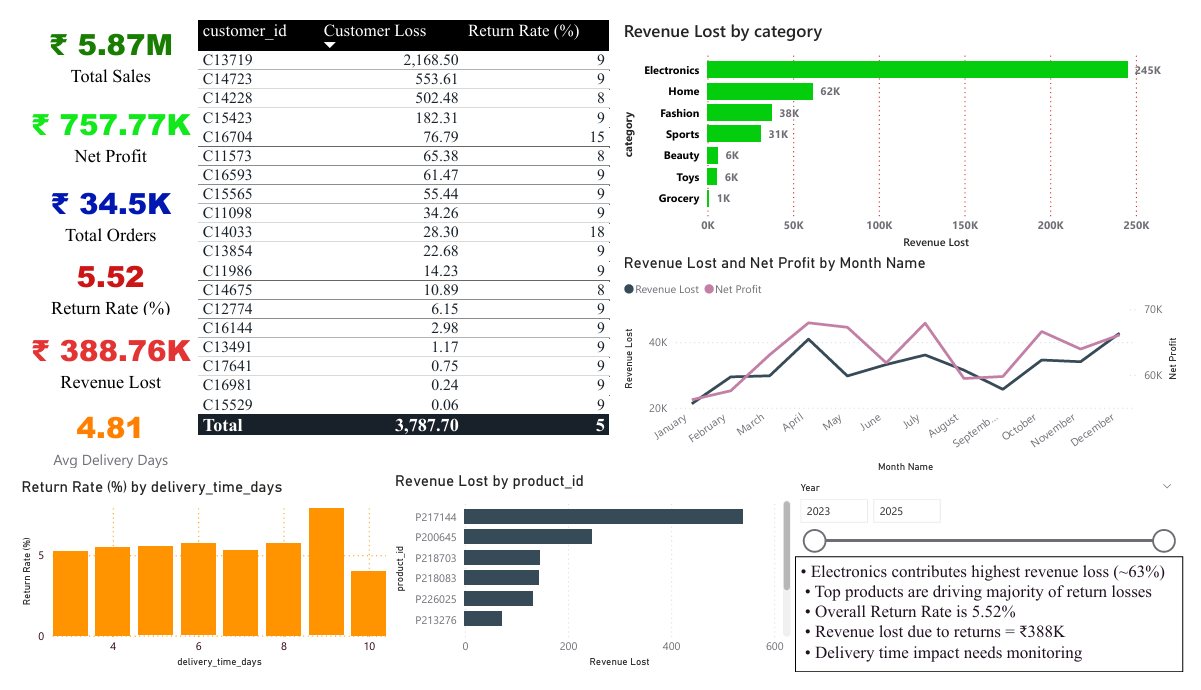

Layout of this report page (visuals, bound fields, positions):
{"tool":"powerbi","page":{"name":"E-Commerce Profit & Return Analysis Dashboard","canvas":[1280,720],"ordinal":0},"visuals":[{"type":"card","fields":{"Values":["ecommerce_sales_34500.Net Profit"]},"box":[0,85.7,205.7,88.6],"z":0},{"type":"card","fields":{"Values":["ecommerce_sales_34500.Total Sales"]},"box":[0,0,205.7,82.9],"z":1000},{"type":"card","fields":{"Values":["ecommerce_sales_34500.Total Orders"]},"box":[0,175.7,205.7,80],"z":2000},{"type":"card","fields":{"Values":["ecommerce_sales_34500.Return Rate (%)"]},"box":[0,258.6,205.7,74.3],"z":3000},{"type":"card","fields":{"Values":["ecommerce_sales_34500.Revenue Lost"]},"box":[0,334.3,205.7,85.7],"z":4000},{"type":"card","fields":{"Values":["ecommerce_sales_34500.Avg Delivery Days"]},"box":[0,422.9,205.7,77.1],"z":7000},{"type":"slicer","fields":{"Values":["ecommerce_sales_34500.Year"]},"box":[847.1,505.7,432.9,87.1],"z":7500},{"type":"barChart","fields":{"Y":["ecommerce_sales_34500.Revenue Lost"],"Category":["ecommerce_sales_34500.product_id"]},"box":[410,500,444.3,220],"z":8000},{"type":"tableEx","fields":{"Values":["ecommerce_sales_34500.customer_id","ecommerce_sales_34500.Customer Loss","ecommerce_sales_34500.Return Rate (%)"]},"box":[192.9,0,482.9,500],"z":9000},{"type":"clusteredColumnChart","fields":{"Category":["ecommerce_sales_34500.delivery_time_days"],"Y":["ecommerce_sales_34500.Return Rate (%)"]},"box":[0,505.7,410,214.3],"z":11000},{"type":"textbox","box":[854.3,592.9,425.7,127.1],"z":12000},{"type":"lineChart","fields":{"Y2":["ecommerce_sales_34500.Net Profit"],"Category":["ecommerce_sales_34500.Month Name"],"Y":["ecommerce_sales_34500.Revenue Lost"]},"box":[661.4,261.4,618.6,244.3],"z":12500},{"type":"clusteredBarChart","fields":{"Y":["ecommerce_sales_34500.Revenue Lost"],"Category":["ecommerce_sales_34500.category"]},"box":[661.4,2.9,618.6,258.6],"z":13000}]}

Visuals, with their boxes in screenshot pixels (x1, y1, x2, y2), scaled from the page's 1280x720 canvas onto the 1201x690 screenshot:
card - ecommerce_sales_34500.Net Profit: pyautogui.locateOnScreen(0, 82, 193, 167)
card - ecommerce_sales_34500.Total Sales: pyautogui.locateOnScreen(0, 0, 193, 79)
card - ecommerce_sales_34500.Total Orders: pyautogui.locateOnScreen(0, 168, 193, 245)
card - ecommerce_sales_34500.Return Rate (%): pyautogui.locateOnScreen(0, 248, 193, 319)
card - ecommerce_sales_34500.Revenue Lost: pyautogui.locateOnScreen(0, 320, 193, 402)
card - ecommerce_sales_34500.Avg Delivery Days: pyautogui.locateOnScreen(0, 405, 193, 479)
slicer - ecommerce_sales_34500.Year: pyautogui.locateOnScreen(795, 485, 1200, 568)
barChart - ecommerce_sales_34500.Revenue Lost x ecommerce_sales_34500.product_id: pyautogui.locateOnScreen(385, 479, 802, 689)
tableEx - ecommerce_sales_34500.customer_id x ecommerce_sales_34500.Customer Loss: pyautogui.locateOnScreen(181, 0, 634, 479)
clusteredColumnChart - ecommerce_sales_34500.delivery_time_days x ecommerce_sales_34500.Return Rate (%): pyautogui.locateOnScreen(0, 485, 385, 689)
textbox: pyautogui.locateOnScreen(802, 568, 1200, 689)
lineChart - ecommerce_sales_34500.Net Profit x ecommerce_sales_34500.Month Name: pyautogui.locateOnScreen(621, 251, 1200, 485)
clusteredBarChart - ecommerce_sales_34500.Revenue Lost x ecommerce_sales_34500.category: pyautogui.locateOnScreen(621, 3, 1200, 251)
